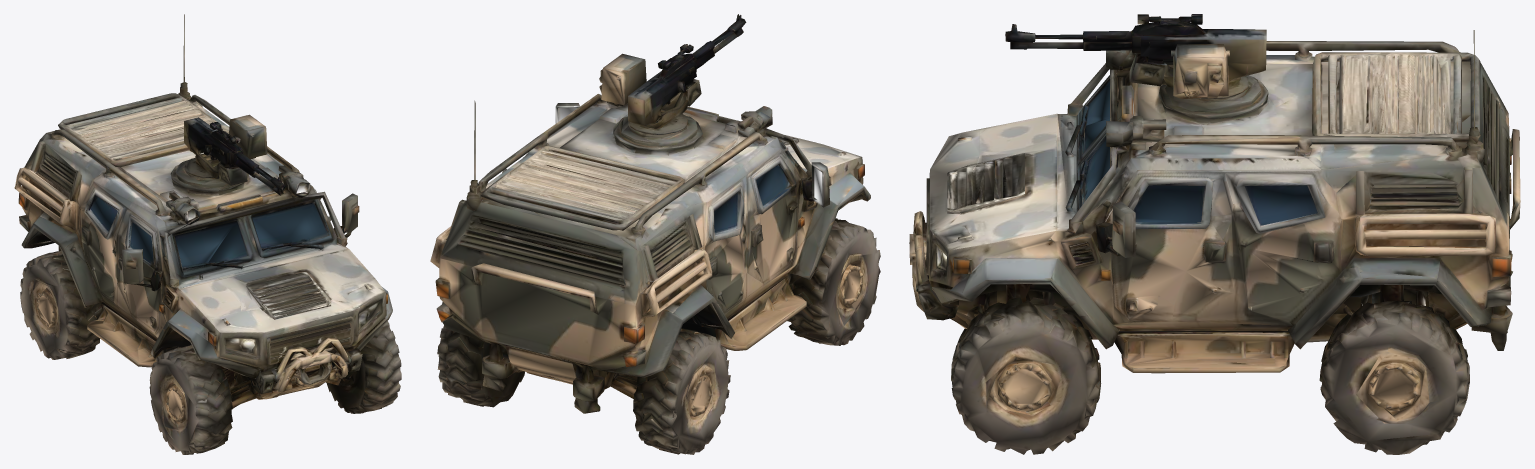
File: assault.glb
The picture shows the model from 3 angles, left to right: view 1: azimuth 30°, elevation 25°; view 2: azimuth 150°, elevation 25°; view 3: azimuth 270°, elevation 25°; orthographic projection. The views are drawn at different scales.
Bounding box in the file's own units: 0.6435 × 0.7453 × 1.02.
Materials: 1 (1 with a texture image).
